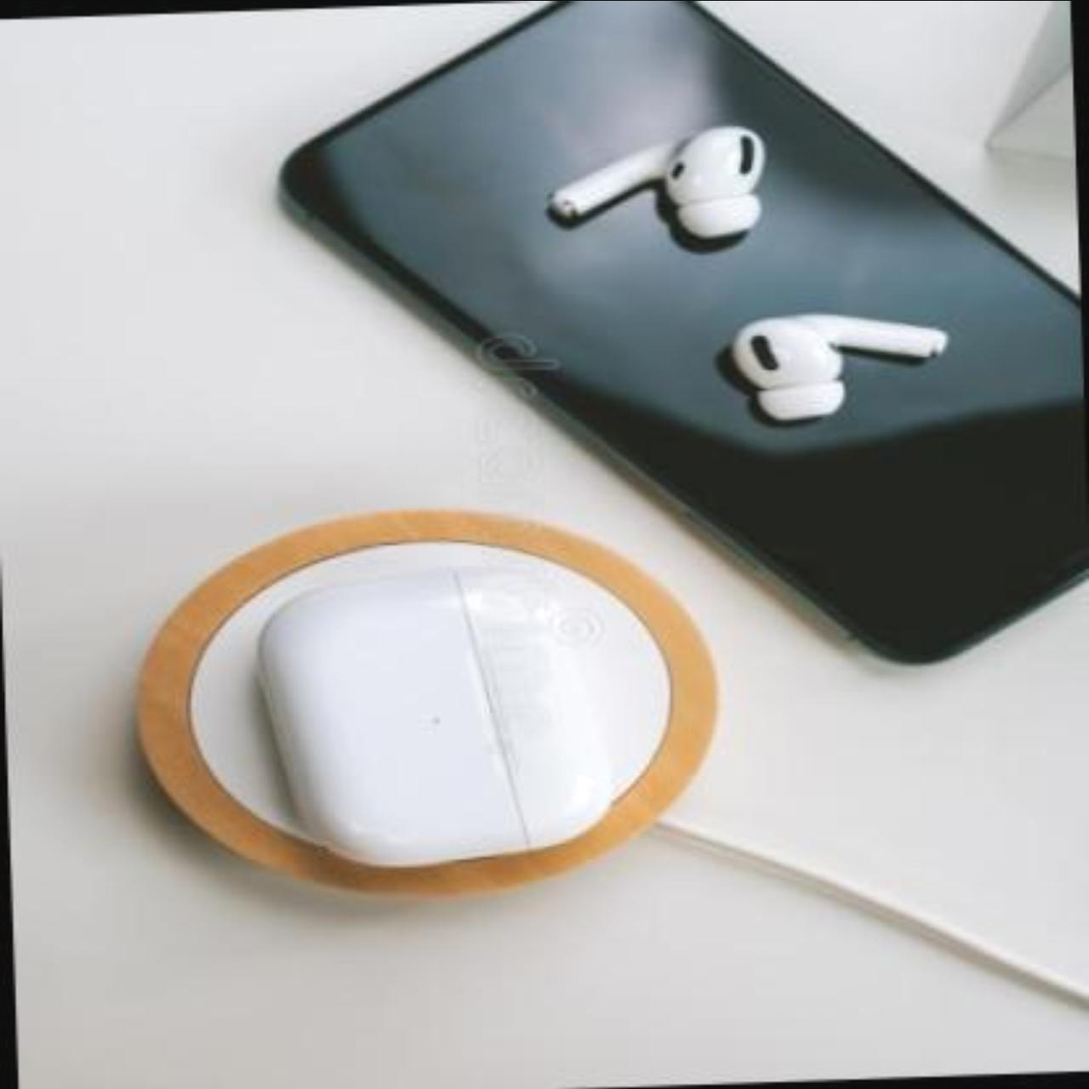Airpods_Units: (524, 104, 773, 245), (719, 313, 952, 420)
